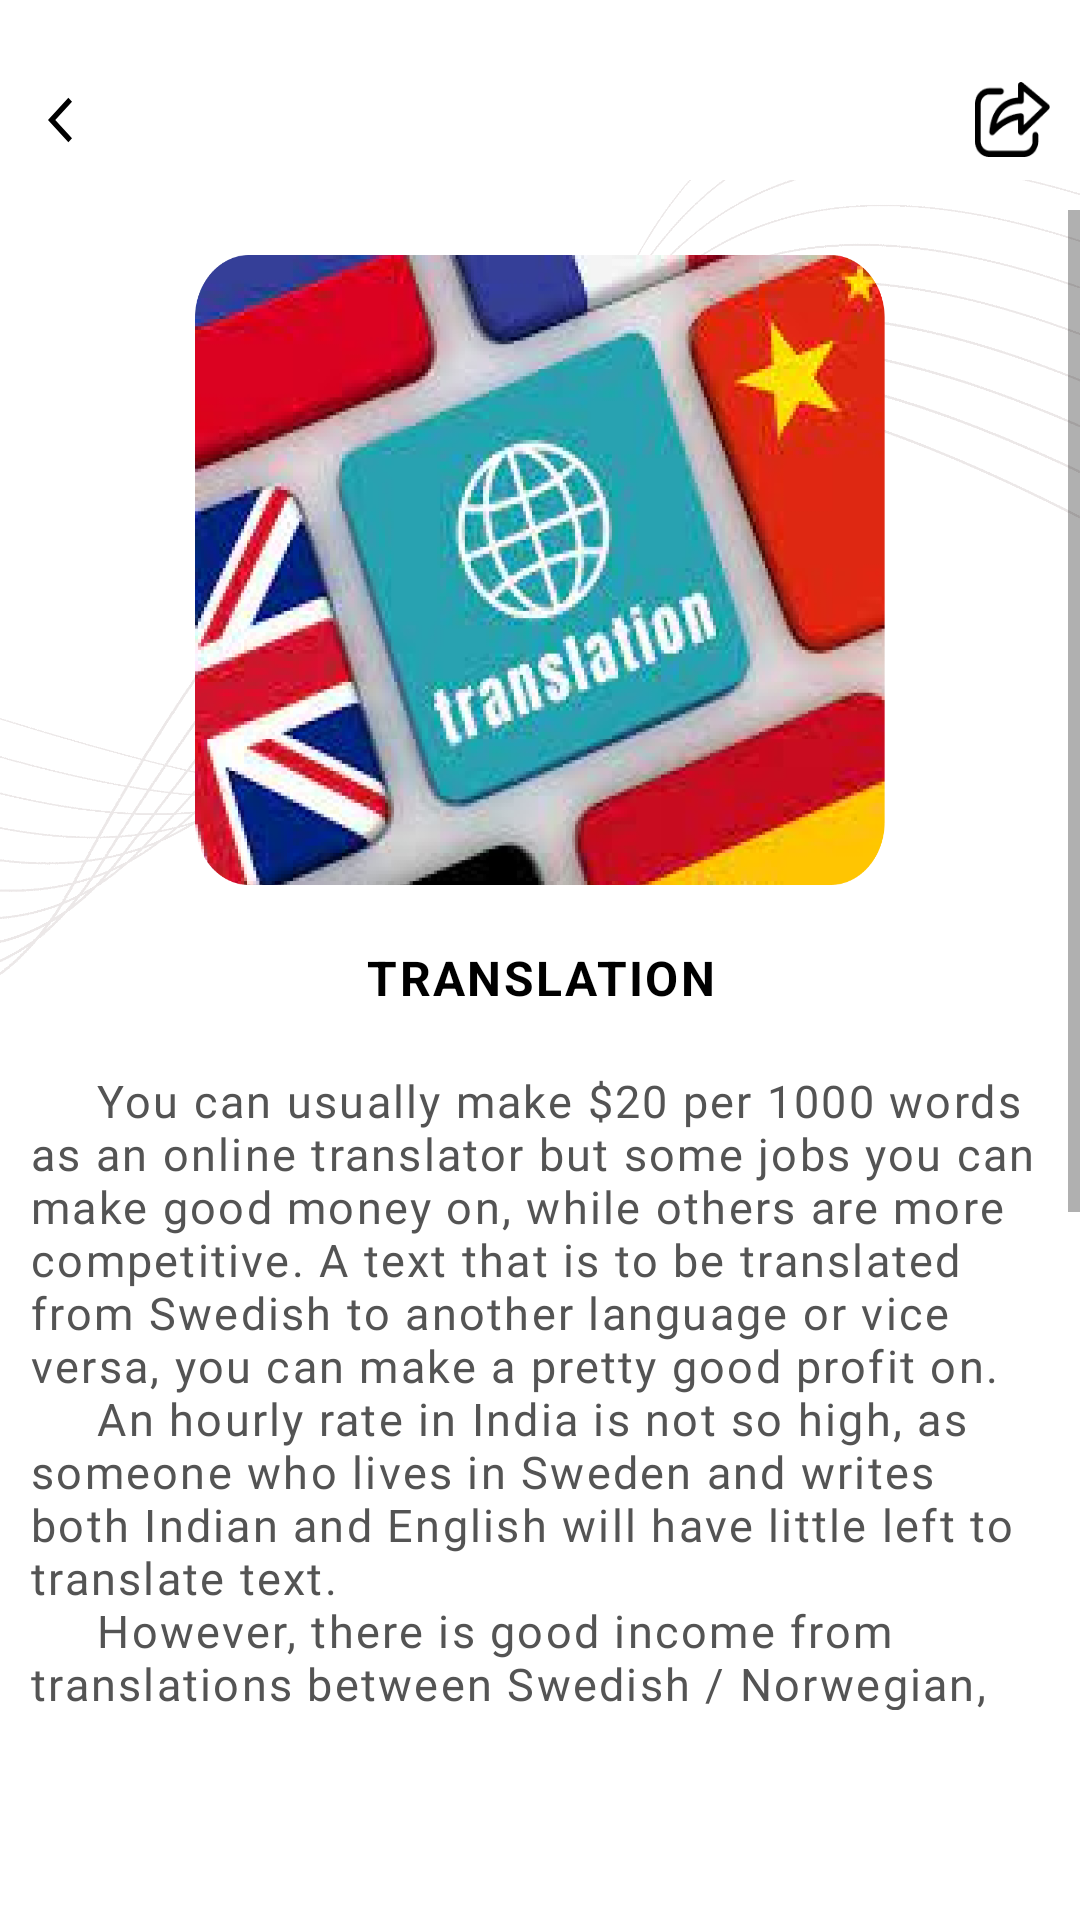

Screen size 1080*1920. Icon name, then its box in pixels as (x1, y1, x2, y2):
share: (975, 82, 1050, 157)
